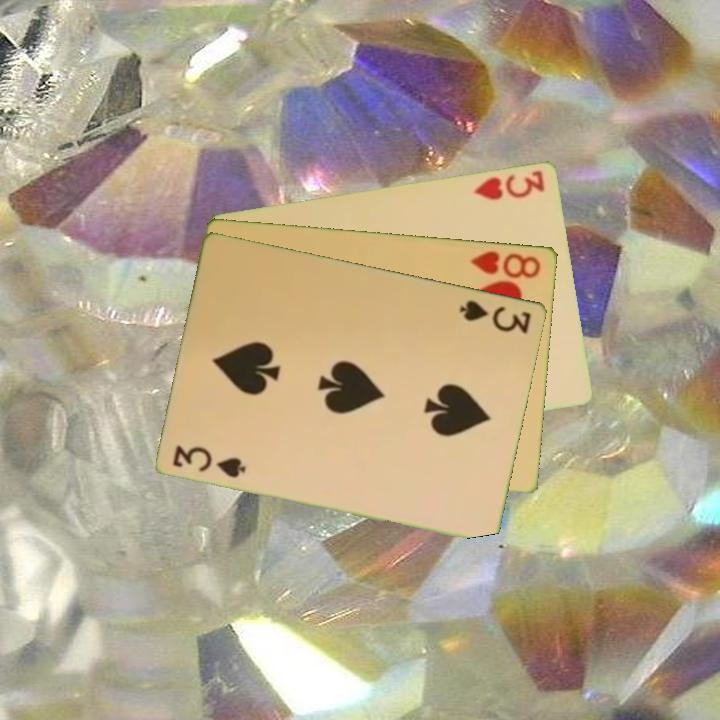3h: (470, 166, 548, 203)
3s: (169, 441, 250, 481), (457, 296, 535, 337)
8h: (467, 246, 544, 281)
